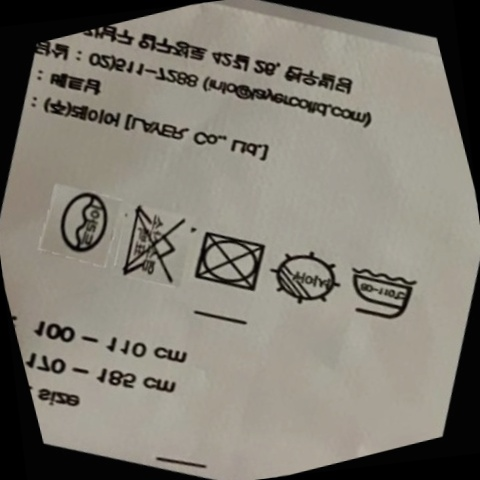DN_bleach: (108, 192, 197, 301)
DN_tumble_dry: (181, 213, 277, 311)
dry_clean: (38, 177, 123, 272)
dry_flat_in_shade: (263, 236, 348, 323)
tumble_dry_low: (332, 243, 430, 341)
